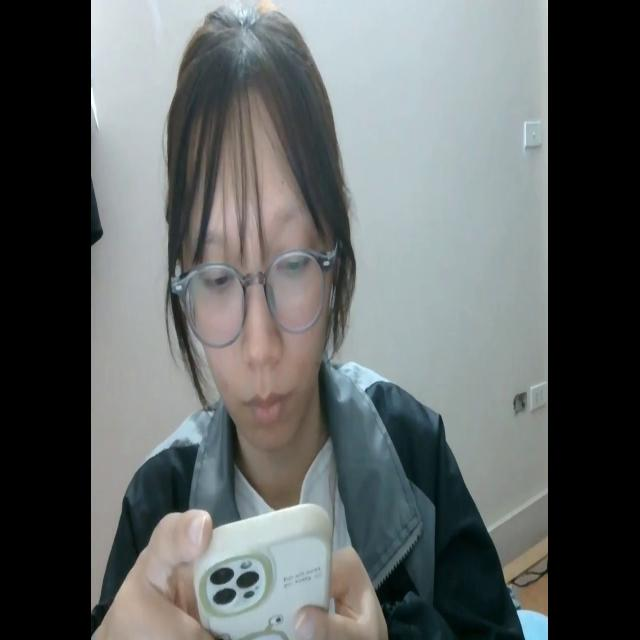phone: (194, 495, 336, 640)
student: (93, 6, 520, 640)
